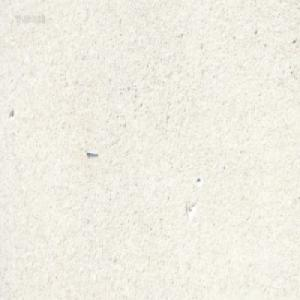Nail: (84, 147, 98, 155)
